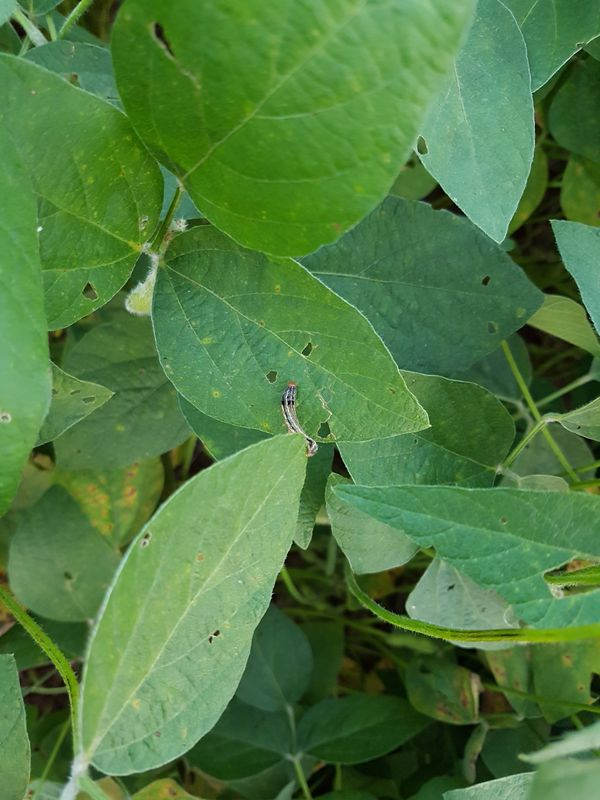Spodoptera_albula: (253, 372, 338, 469)
